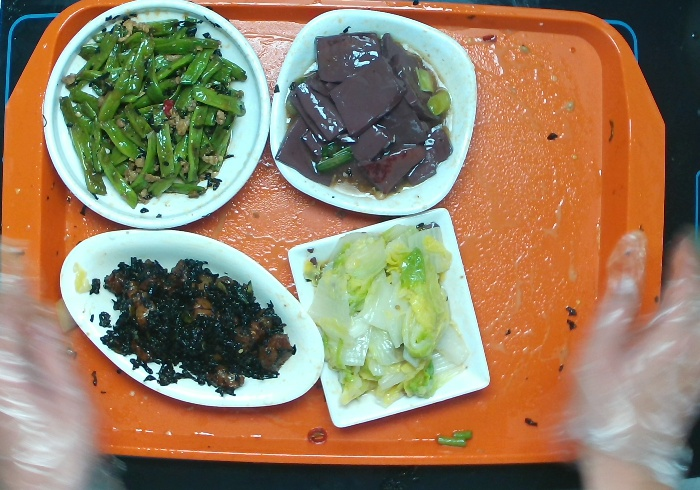HZYJPL-Si_Fang_Die: (288, 209, 492, 435)
HZYJPL-Si_Fang_Yuan_Die: (269, 6, 481, 219)
HZYJPL-Xiao_Yu_Die: (57, 230, 327, 412)
HZYJPL-Xiao_Yuan_Die: (39, 3, 271, 230)
